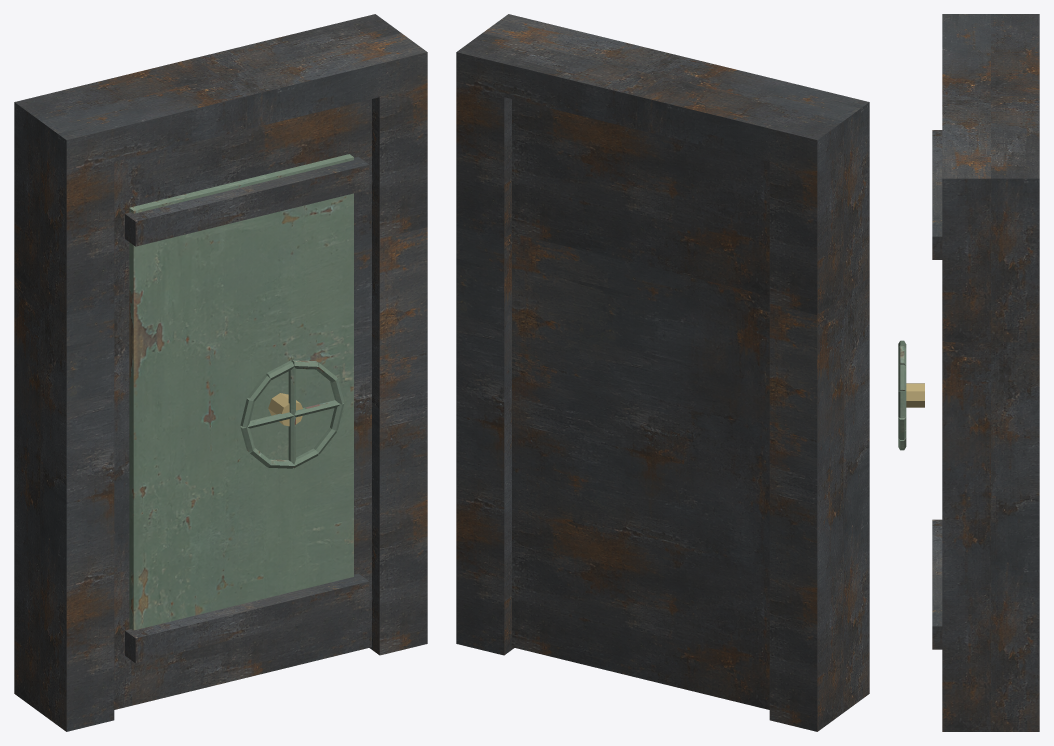
The model's file is silo-heavy-door.gltf.
3 views of the same model, side by side, from view 1: azimuth 30°, elevation 25°; view 2: azimuth 150°, elevation 25°; view 3: azimuth 270°, elevation 25° (orthographic). The views are drawn at different scales.
Parts seen in each view (by area): view 1: component-door-frame-22-steel-0, component-door-22-seafoam-2, component-door-22-steel-1; view 2: component-door-22-steel-1, component-door-frame-22-steel-0; view 3: component-door-frame-22-steel-0, component-door-22-steel-1, component-door-22-seafoam-2, component-door-22-brass-3.
Boxes of the visible parts, x1,y1,x2,y2 form: component-door-frame-22-steel-0: [14, 14, 427, 731]; component-door-22-seafoam-2: [129, 154, 353, 630]; component-door-22-steel-1: [114, 99, 371, 709]; component-door-22-steel-1: [512, 99, 769, 709]; component-door-frame-22-steel-0: [456, 14, 869, 731]; component-door-frame-22-steel-0: [942, 14, 1039, 731]; component-door-22-steel-1: [932, 130, 942, 649]; component-door-22-seafoam-2: [898, 340, 906, 450]; component-door-22-brass-3: [906, 383, 924, 407].
Size of the model in its own units: 1.36 by 2.13 by 0.494.
Materials: 3 (2 with a texture image).
